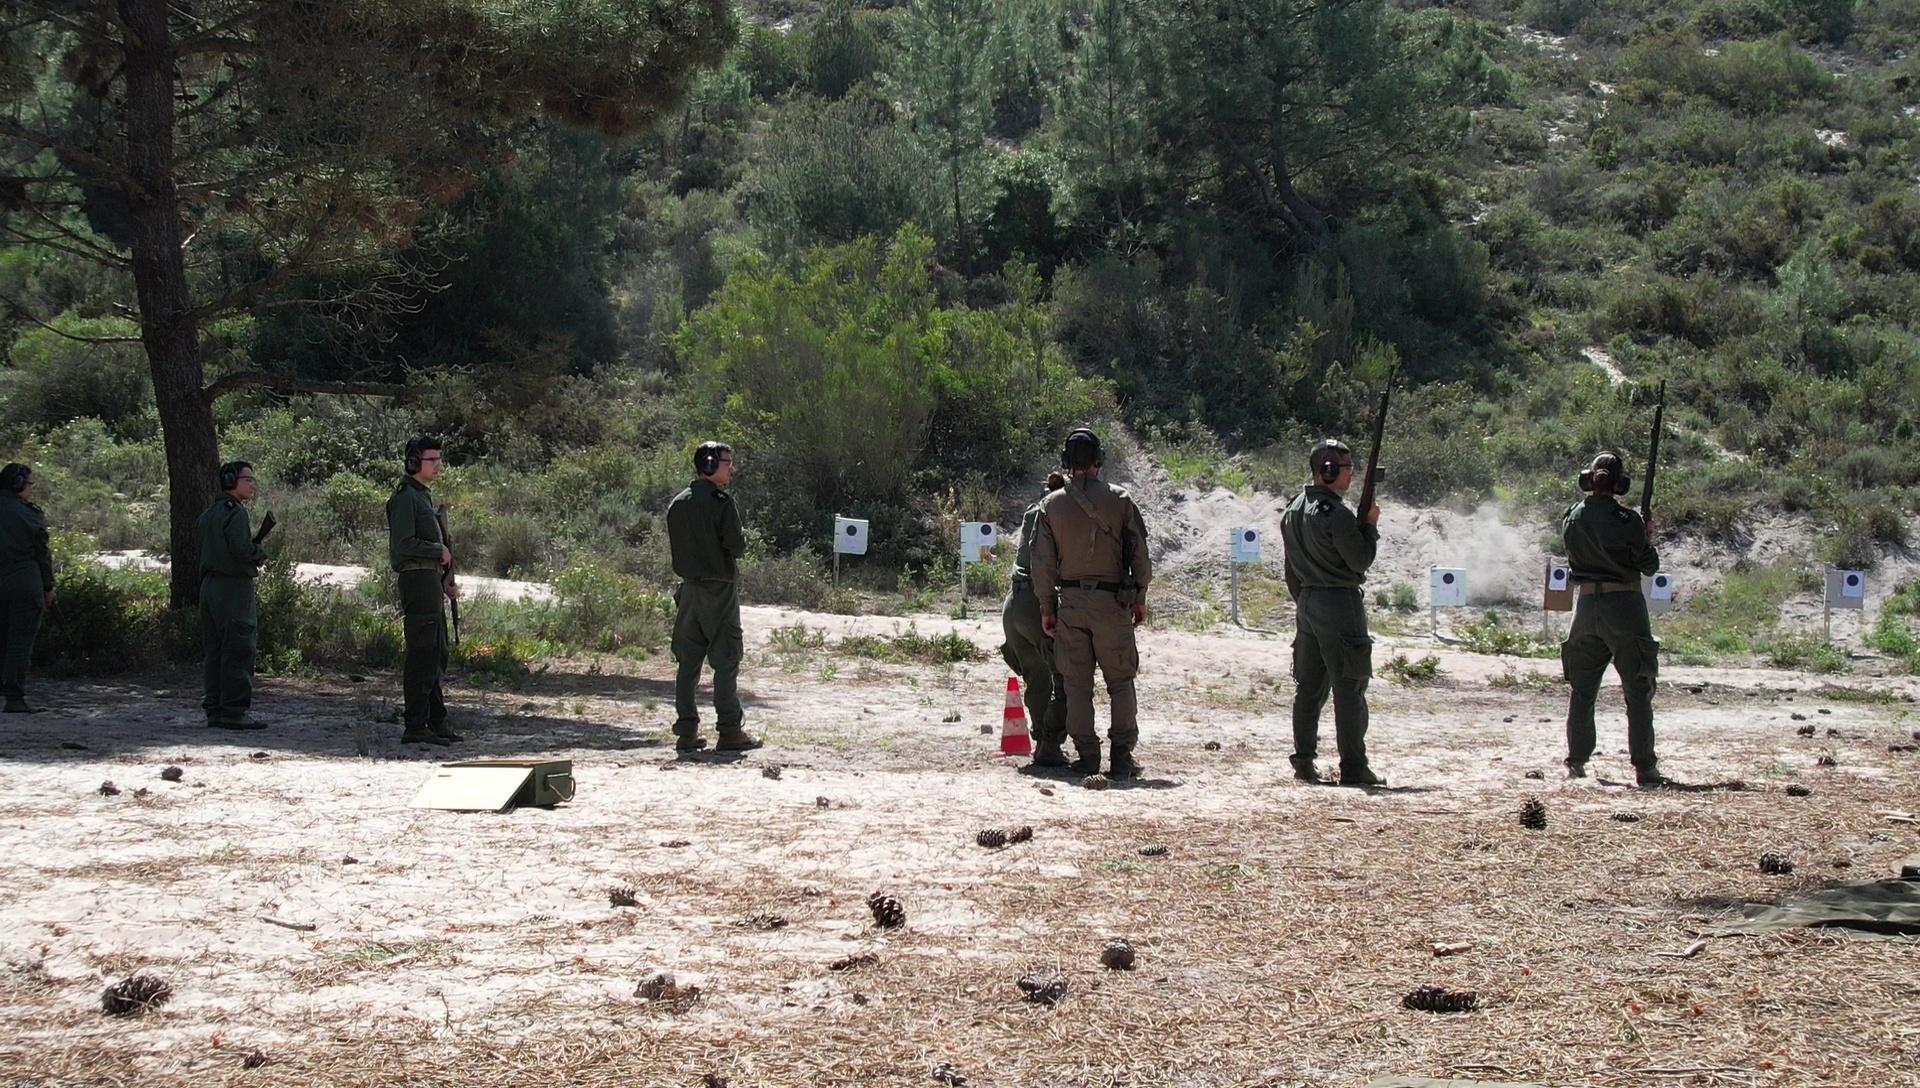Soldier: (1259, 357, 1416, 804), (1543, 415, 1691, 804), (1014, 419, 1154, 806), (650, 433, 769, 770), (157, 460, 284, 757), (373, 442, 471, 768), (0, 434, 73, 740)
